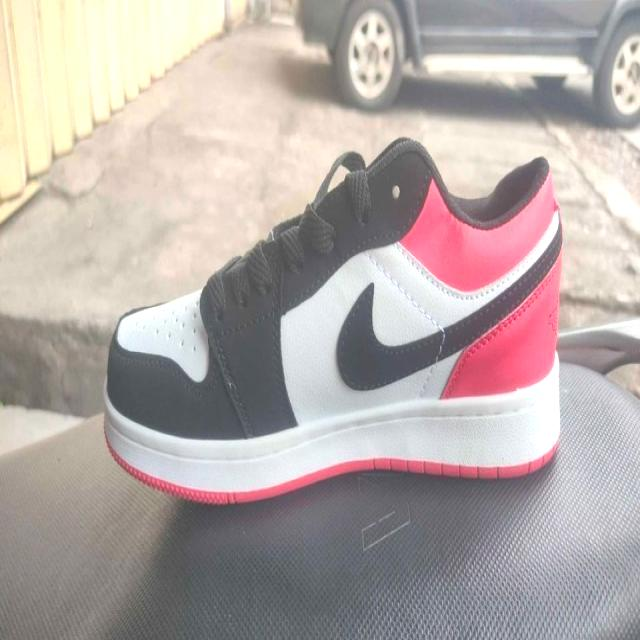nike_fake_jordan: (104, 137, 566, 506)
